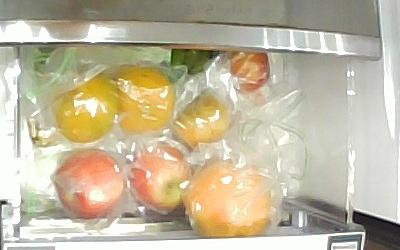apple_vinyl: (52, 149, 126, 222), (129, 141, 193, 218)
grapefruit_vinyl: (182, 159, 270, 236)
persimmon_vinyl: (116, 64, 177, 138), (55, 72, 116, 142)
prune_vinyl: (175, 90, 231, 143), (228, 51, 269, 91)
